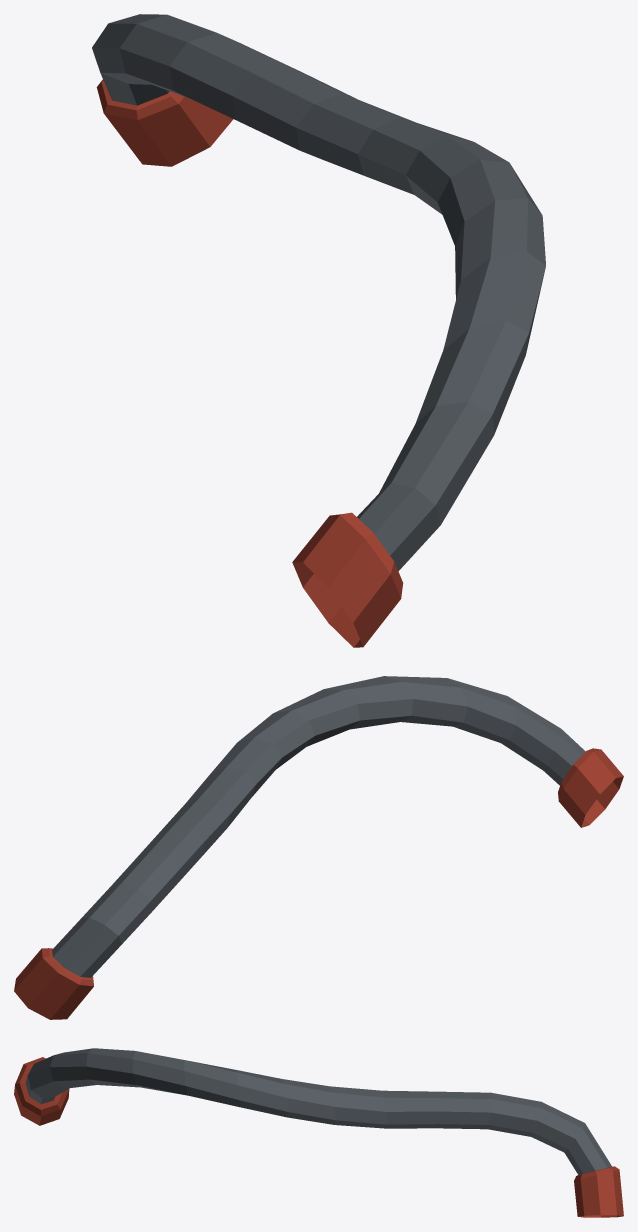
Rendered from Personal_Vehicle_04_Connecting_Tubes_1_Red.fbx.
The picture shows the model from 3 angles, top to bottom: view 1: azimuth 30°, elevation 25°; view 2: azimuth 150°, elevation 25°; view 3: azimuth 270°, elevation 25°; orthographic projection. The views are drawn at different scales.
Visible parts, largest first — view 1: Personal_Vehicle_04_Connecting_Tubes_1_Red; view 2: Personal_Vehicle_04_Connecting_Tubes_1_Red; view 3: Personal_Vehicle_04_Connecting_Tubes_1_Red.
Part boxes in pixels (bbox=[...]): Personal_Vehicle_04_Connecting_Tubes_1_Red: bbox=[92, 14, 545, 647]; Personal_Vehicle_04_Connecting_Tubes_1_Red: bbox=[14, 676, 623, 1019]; Personal_Vehicle_04_Connecting_Tubes_1_Red: bbox=[14, 1048, 623, 1217].
Bounding box in the file's own units: 34 × 18.93 × 73.61.
1 material, 1 textured.
